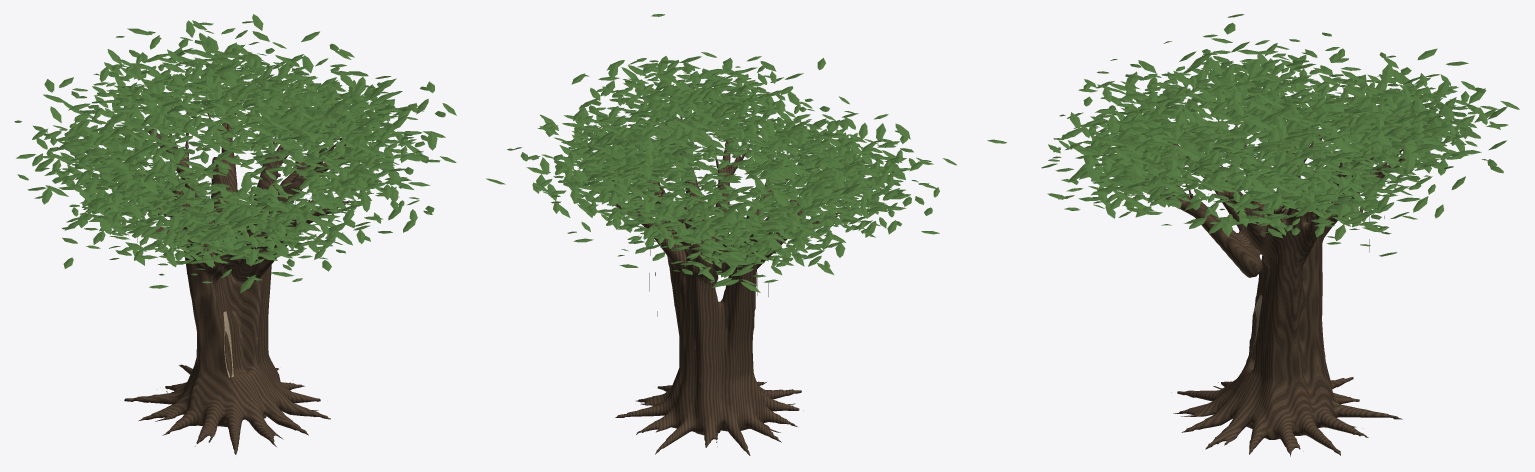
Rendered from banyan_01.glb.
The picture shows the model from 3 angles, left to right: view 1: azimuth 30°, elevation 25°; view 2: azimuth 150°, elevation 25°; view 3: azimuth 270°, elevation 25°; orthographic projection. The views are drawn at different scales.
Visible parts, largest first — view 1: Banyan_Foliage, Banyan_Bark; view 2: Banyan_Foliage, Banyan_Bark; view 3: Banyan_Foliage, Banyan_Bark.
Part boxes in pixels (x1,y1,x2,y2): Banyan_Foliage: (14,14,456,293); Banyan_Bark: (114,103,349,454); Banyan_Foliage: (486,14,956,292); Banyan_Bark: (612,107,838,455); Banyan_Foliage: (987,14,1519,256); Banyan_Bark: (1141,120,1405,456).
Bounding box in the file's own units: 8.15 × 6.83 × 8.83.
3 materials, 1 textured.
